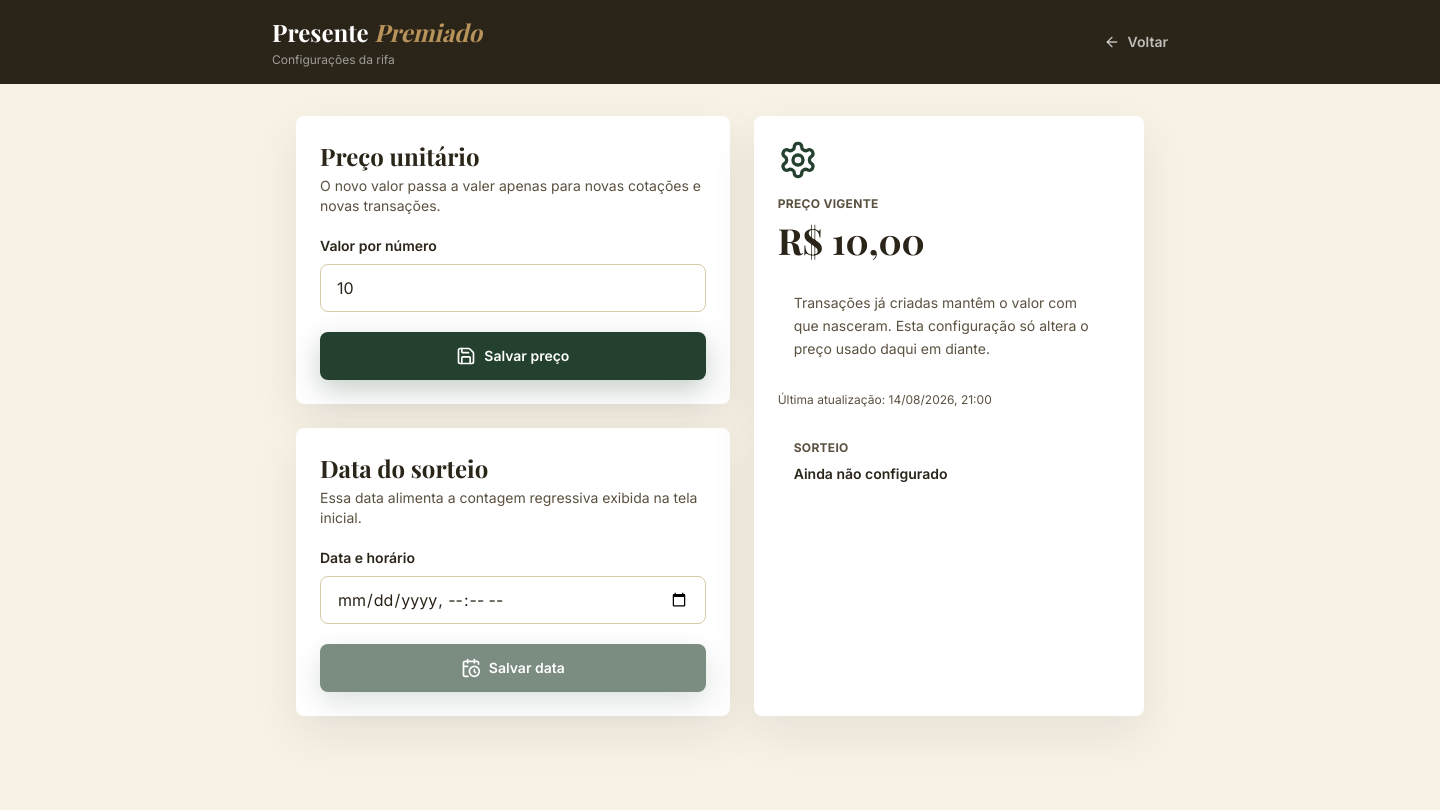
App › updates raffle unit price from admin settings
The width and height of the screenshot is (1440, 810).
Check: the heading "Preço unitário" is shown, box [320,140,480,172]
Check: the text "R$ 10,00" is shown, box [778,216,925,264]
Replace the text in the number field labelled "Valor por número" with "15" at (513, 288), box [320,264,706,312]
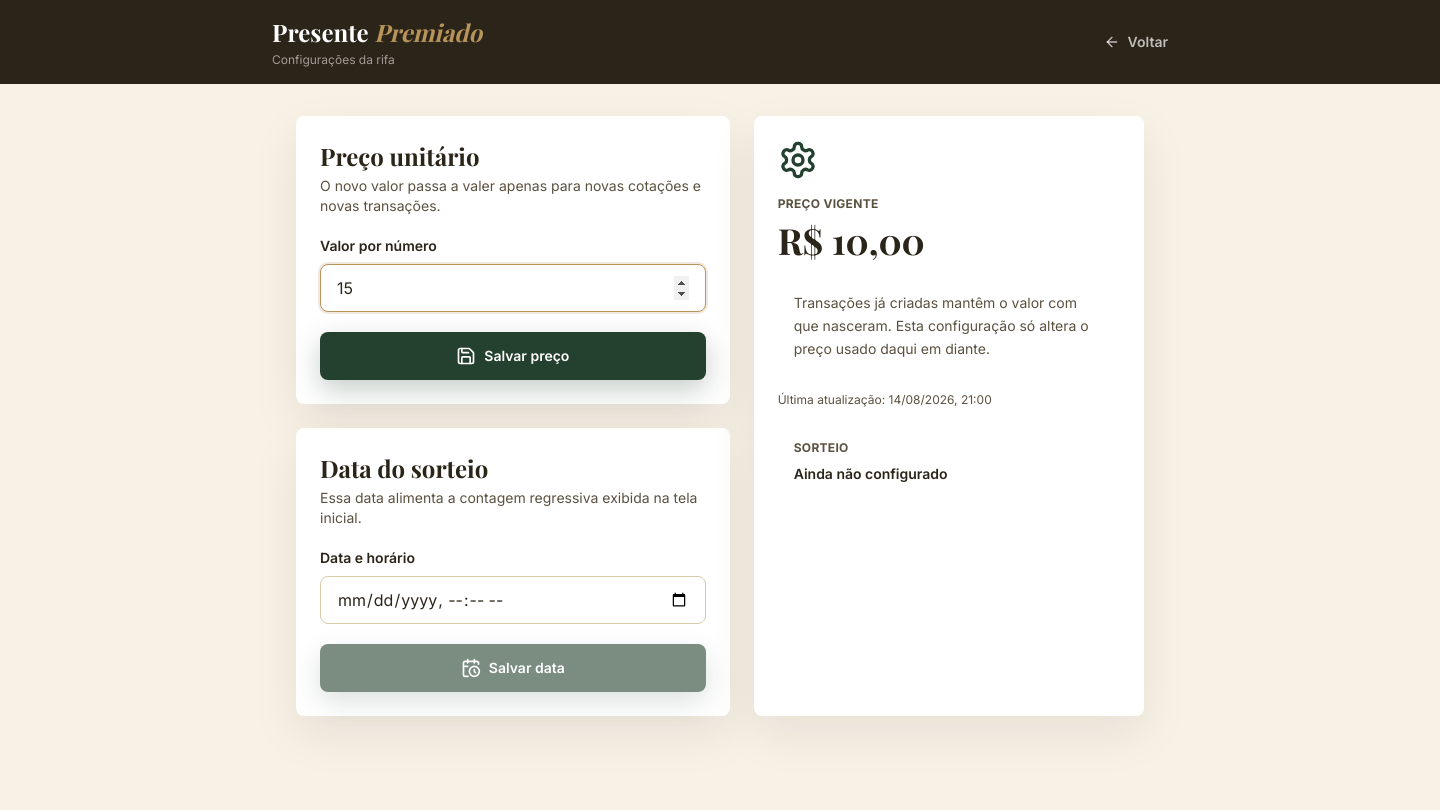
Click the button "Salvar preço" at (513, 356), box [320,332,706,380]
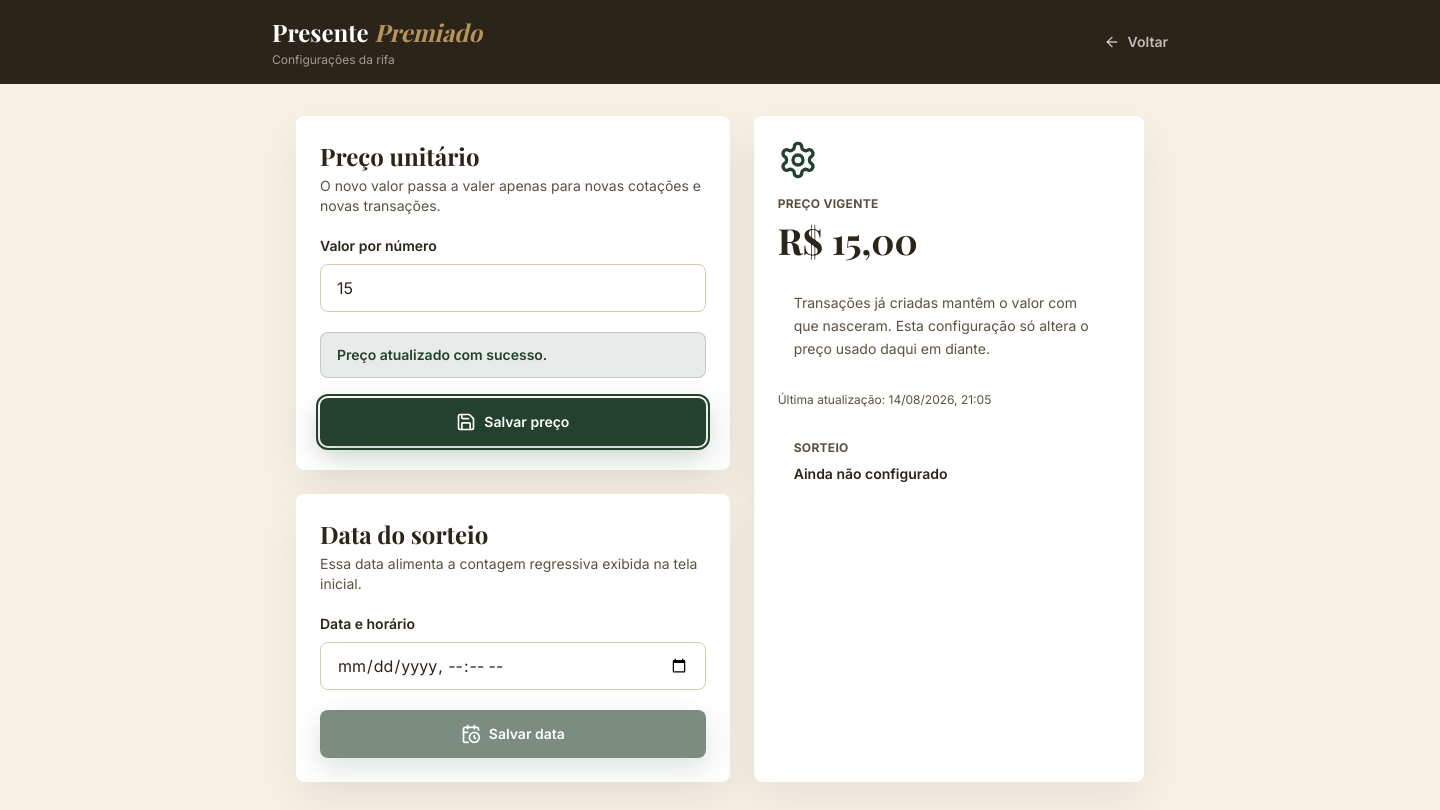
Check: the text "Preço atualizado com sucesso." is shown, box [320,332,706,378]
Check: the text "R$ 15,00" is shown, box [778,216,918,264]
